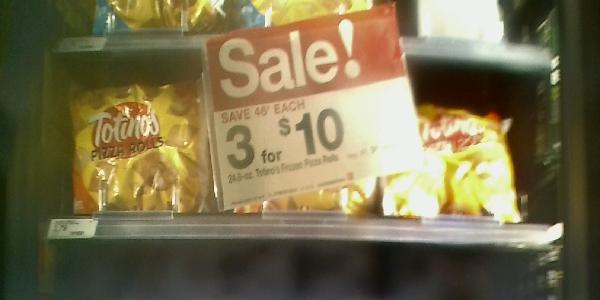icecream: (209, 51, 383, 220), (64, 70, 219, 223), (377, 88, 536, 231)
